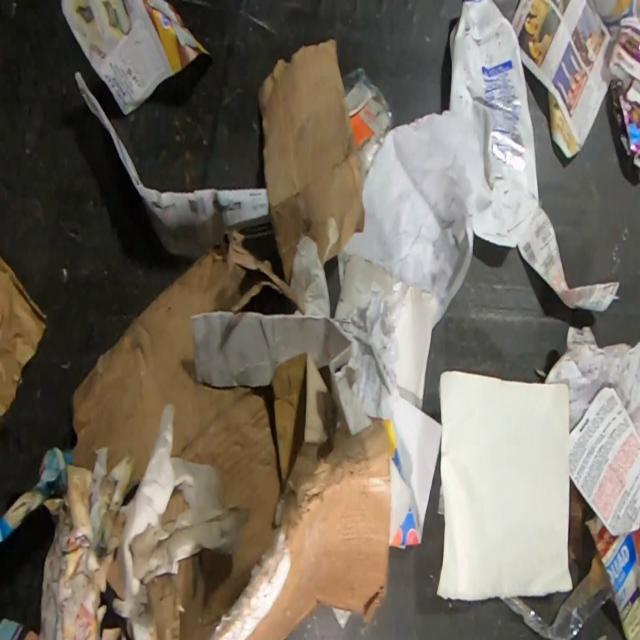cardboard: (71, 229, 397, 640), (258, 37, 364, 285), (450, 0, 539, 249), (0, 254, 48, 419), (587, 516, 640, 640)
soft_plastic: (502, 545, 614, 639), (340, 65, 394, 177)
